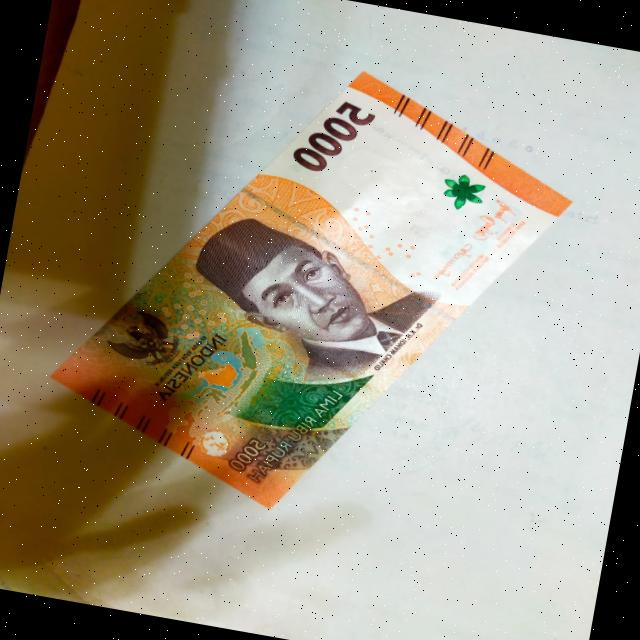5K: (16, 16, 598, 566)
